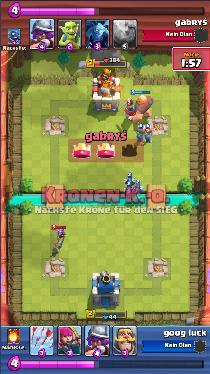ally_giant: (132, 94, 154, 122)
ally_minion: (123, 175, 136, 185), (134, 182, 143, 194), (124, 186, 132, 195)
ally_wallbreaker: (137, 124, 146, 143), (145, 125, 155, 142)
enemy_knight: (120, 97, 135, 121)
enemy_musketeer: (56, 226, 66, 248)
